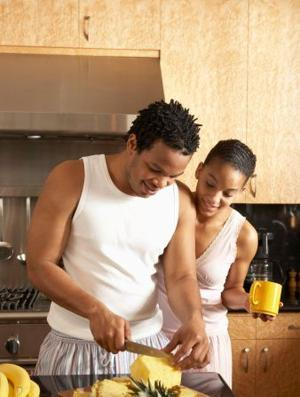person: (25, 99, 212, 375)
